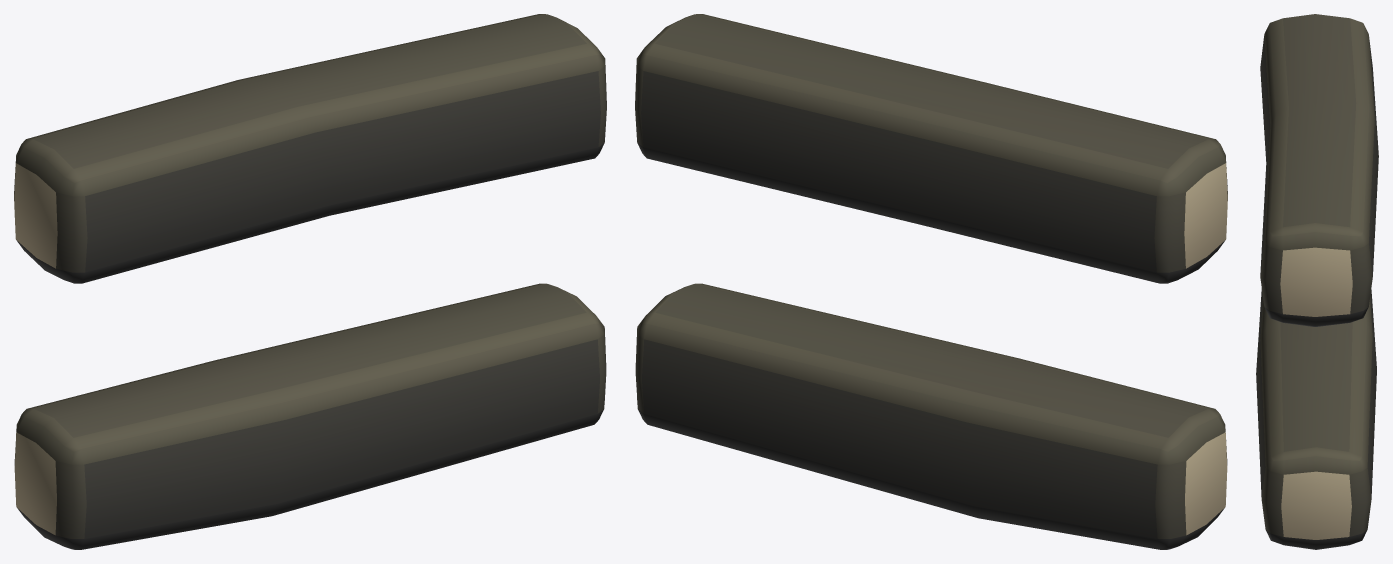
File: ColdWood_Fence_Planks.fbx
3 renders of one model, left to right at view 1: azimuth 30°, elevation 25°; view 2: azimuth 150°, elevation 25°; view 3: azimuth 270°, elevation 25°, orthographic. The views are drawn at different scales.
Parts seen in each view (by area): view 1: ColdWood_Fence_Planks_LOD0; view 2: ColdWood_Fence_Planks_LOD0; view 3: ColdWood_Fence_Planks_LOD0.
Part boxes in pixels (<box>): ColdWood_Fence_Planks_LOD0: <box>14,14,606,549</box>; ColdWood_Fence_Planks_LOD0: <box>635,14,1227,549</box>; ColdWood_Fence_Planks_LOD0: <box>1256,14,1378,549</box>.
Size of what is drawn, in the model's own units: 1.07 by 0.7599 by 0.249.
